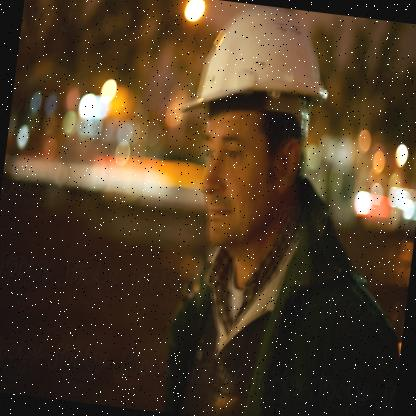capacete: (159, 0, 344, 259)
sem_colete_refletivo: (155, 225, 413, 415)
